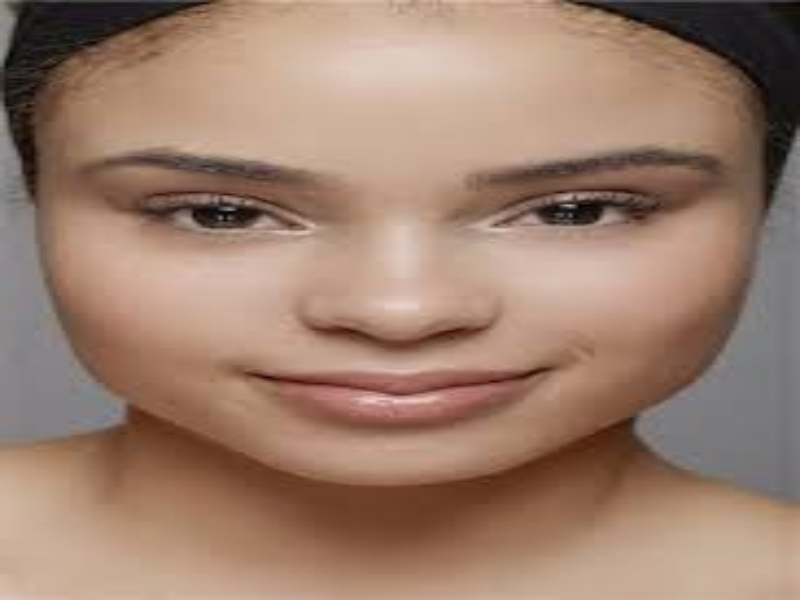face: (78, 91, 738, 448)
